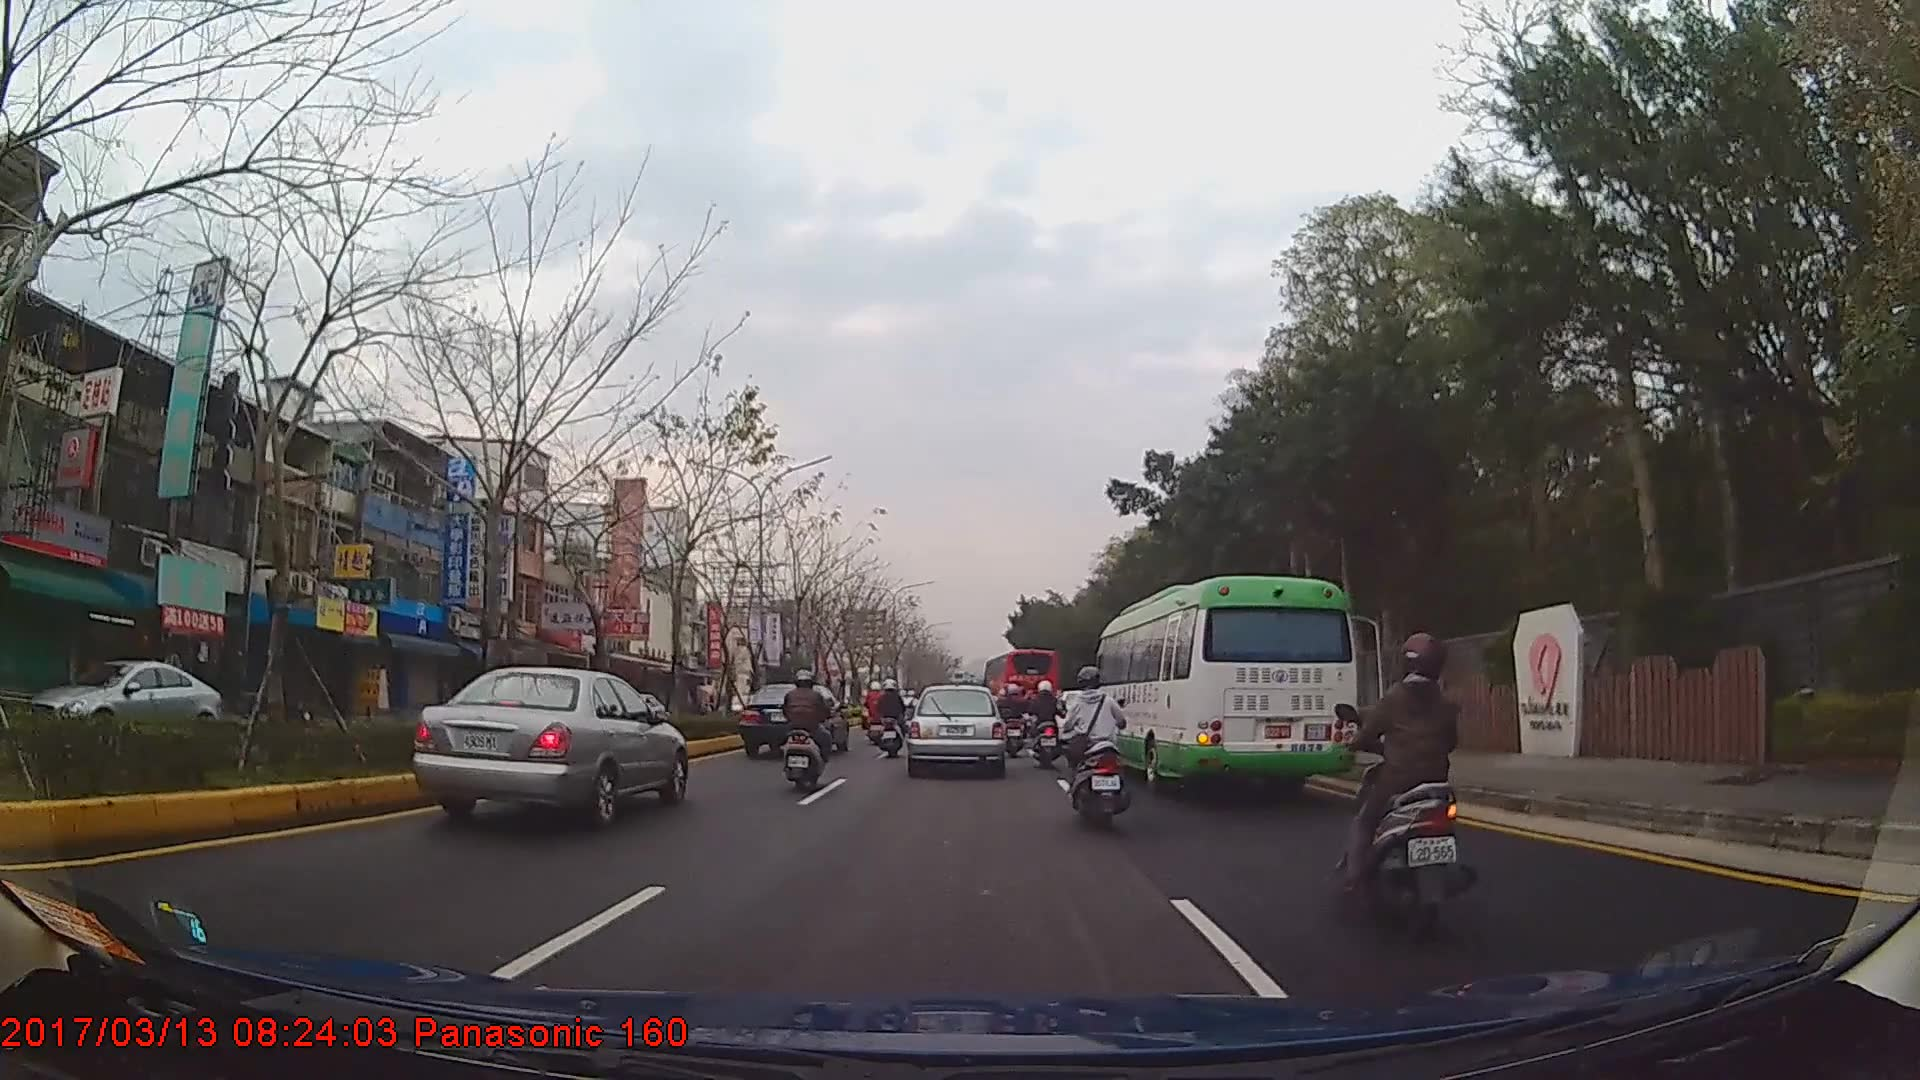rider: (1329, 630, 1468, 925), (1061, 666, 1128, 833), (781, 671, 837, 794), (1027, 679, 1066, 768), (874, 680, 908, 759), (996, 682, 1029, 758), (864, 683, 887, 746), (902, 692, 922, 740)
vehicle: (1087, 573, 1360, 790), (410, 664, 690, 831), (18, 648, 226, 750), (906, 684, 1006, 778), (740, 682, 851, 758), (983, 646, 1057, 730)
